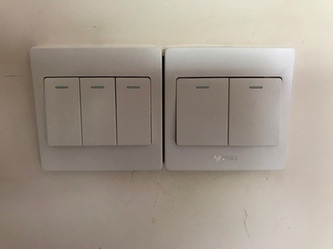switch: (171, 72, 233, 151), (226, 72, 284, 152), (40, 70, 85, 150), (76, 74, 119, 150), (113, 72, 154, 150)
